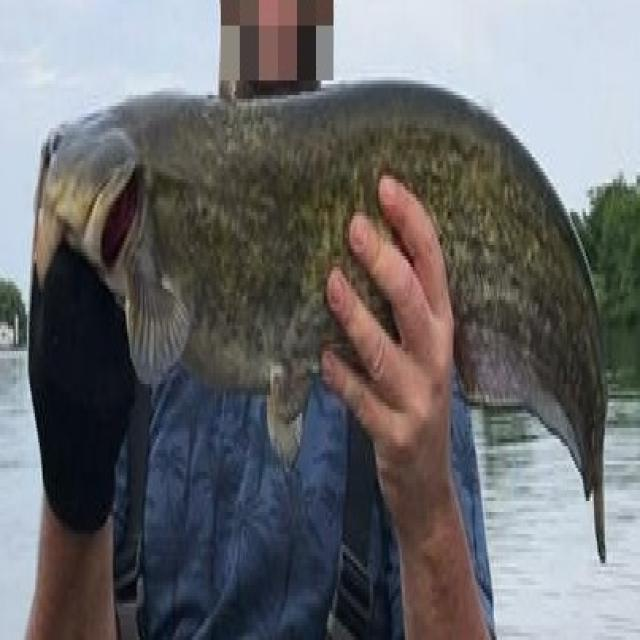Catfish: (25, 29, 627, 632)
